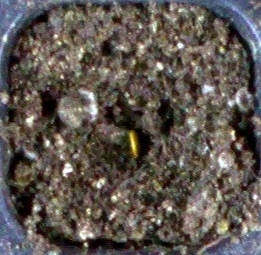pepper seed: (56, 51, 198, 210)
